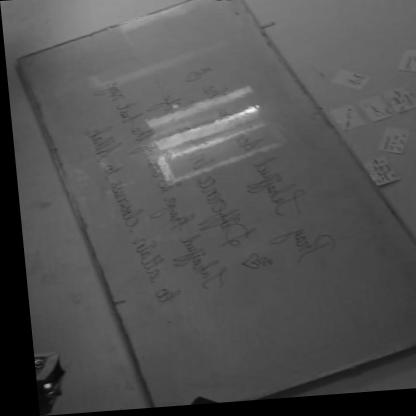Handwritten text: (80, 70, 233, 310), (183, 67, 340, 285), (132, 81, 262, 266), (73, 109, 183, 318)
